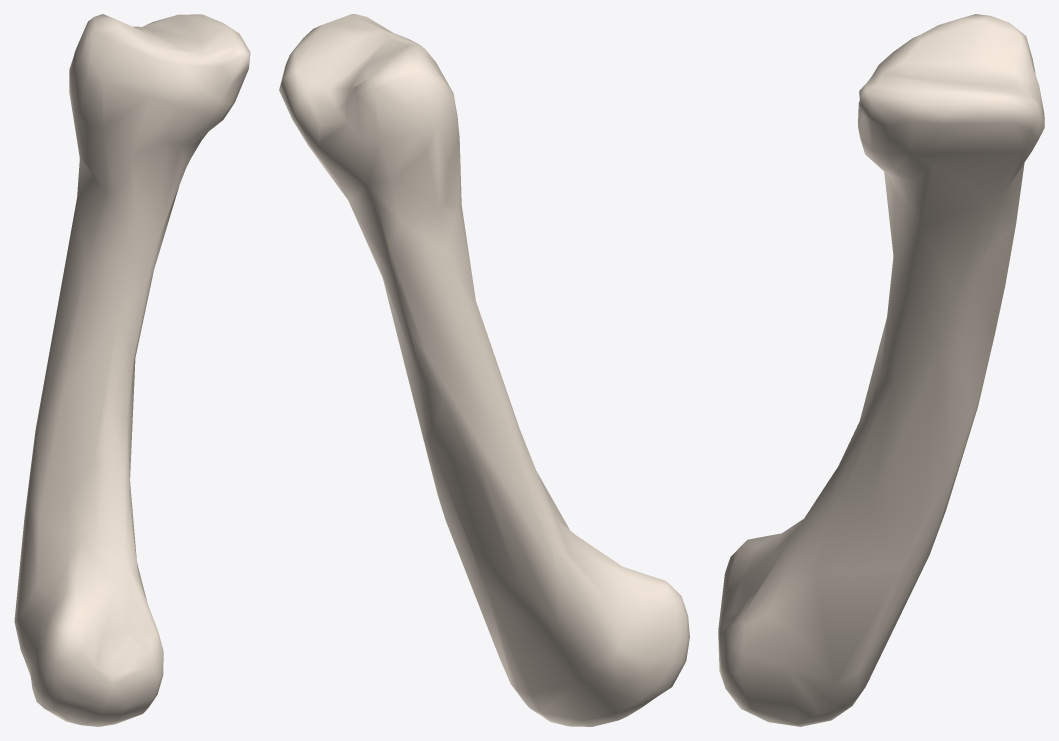
Rendered from right_metacarpal_2.glb.
3 views of the same model, side by side, from view 1: azimuth 30°, elevation 25°; view 2: azimuth 150°, elevation 25°; view 3: azimuth 270°, elevation 25° (orthographic). The views are drawn at different scales.
Parts seen in each view (by area): view 1: 2nd metacarpal bone.r; view 2: 2nd metacarpal bone.r; view 3: 2nd metacarpal bone.r.
Boxes of the visible parts, x1=… form: 2nd metacarpal bone.r: x1=14, y1=14, x2=250, y2=726; 2nd metacarpal bone.r: x1=279, y1=14, x2=689, y2=726; 2nd metacarpal bone.r: x1=718, y1=14, x2=1044, y2=726.
Size of the model in its own units: 0.0184 by 0.0407 by 0.016.
